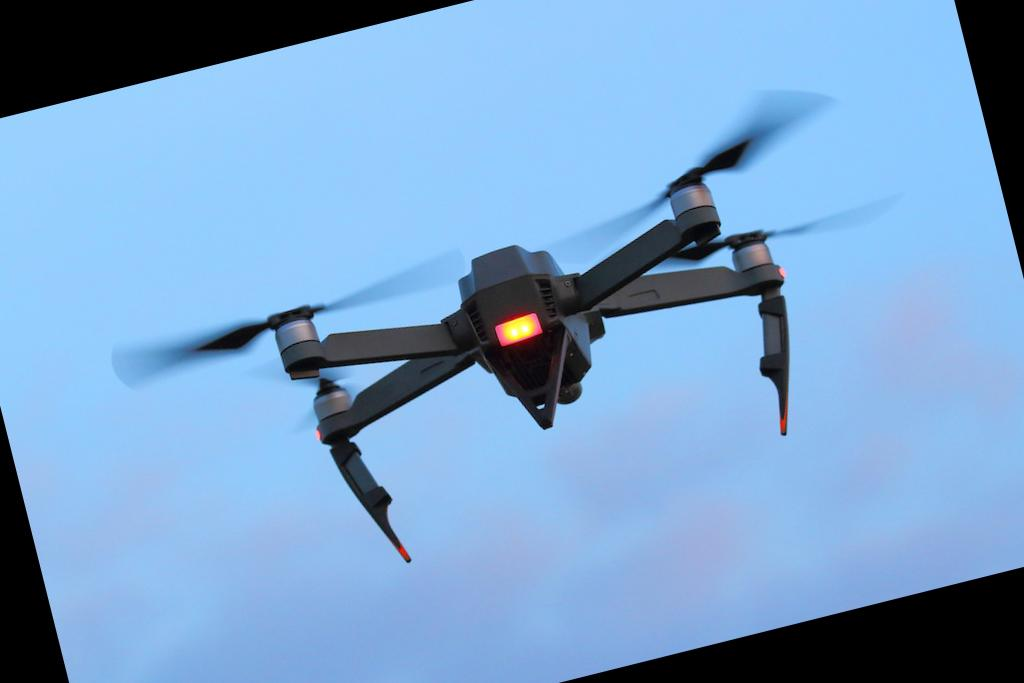drone: (150, 63, 919, 622)
